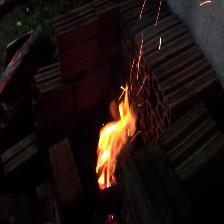fire: (79, 61, 160, 195)
